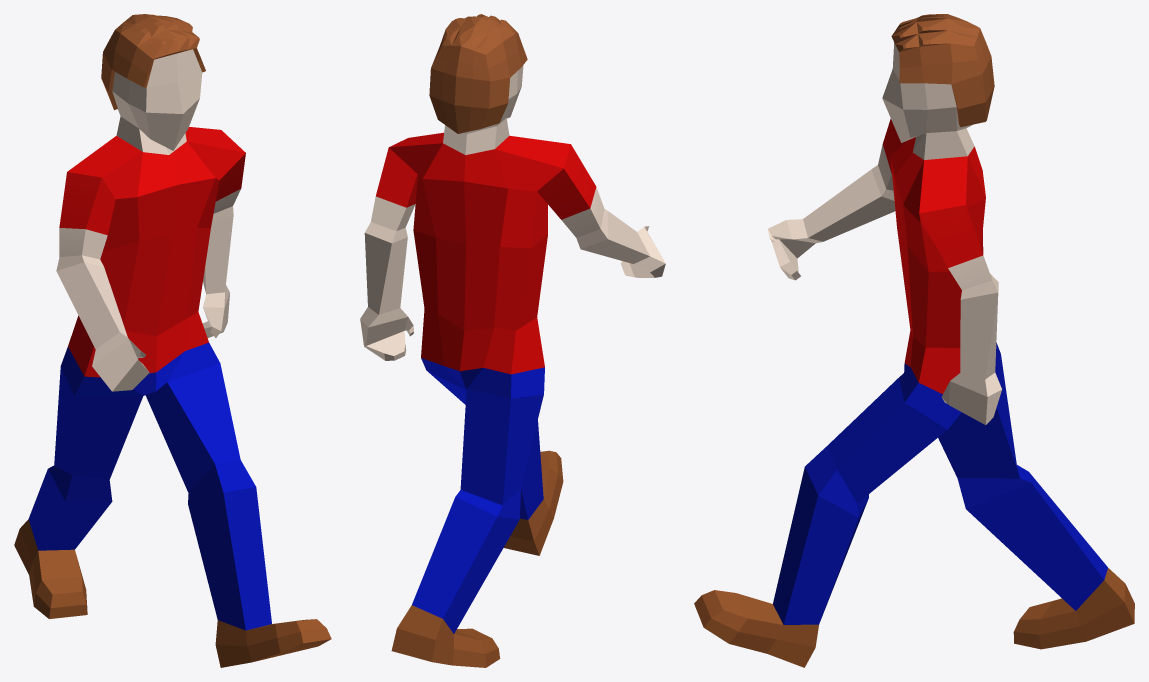
Rendered from Human_walking_8.fbx.
3 renders of one model, left to right at view 1: azimuth 30°, elevation 25°; view 2: azimuth 150°, elevation 25°; view 3: azimuth 270°, elevation 25°, orthographic. The views are drawn at different scales.
Parts seen in each view (by area): view 1: Person; view 2: Person; view 3: Person.
Boxes of the visible parts, left/top/right/bottom form: Person: left=14, top=14, right=331, bottom=667; Person: left=360, top=14, right=665, bottom=667; Person: left=694, top=14, right=1134, bottom=667.
Size of the model in its own units: 0.5972 by 1.54 by 0.9611.
